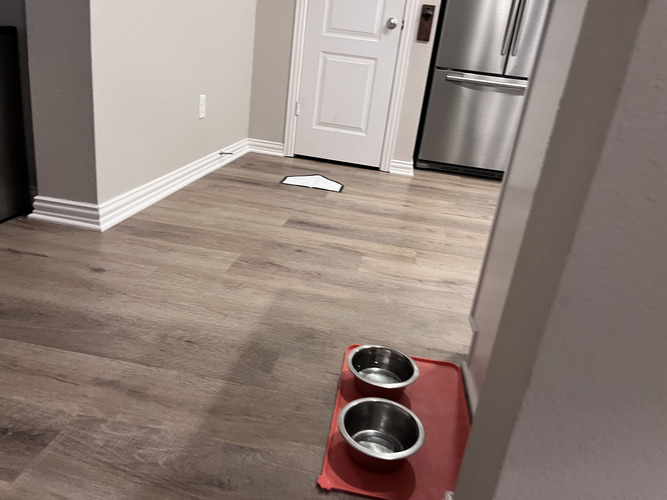homeplate: (279, 174, 343, 193)
